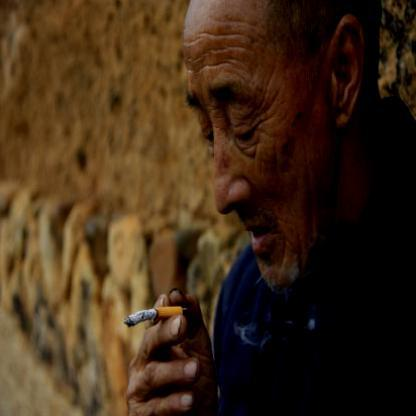cigarette: (125, 305, 190, 330)
person: (177, 0, 416, 415)
smoke: (232, 312, 274, 354)
